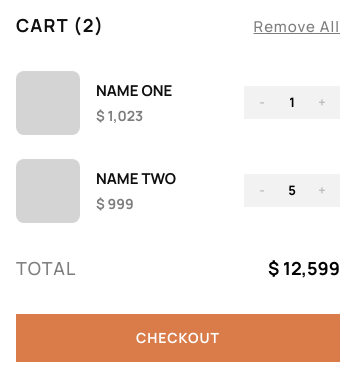
Test case: Given I use the "CartModal" component › When the cart have 2 items › When I click on the "Remove all" button › It should remove all items inside the modal
Click the button "remove all" at (297, 27), box [254, 16, 340, 38]
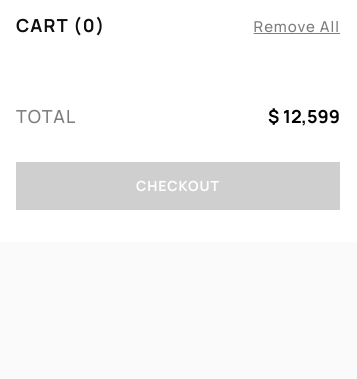
Expected: the heading "Cart (0)" is shown, [16, 16, 106, 38]
